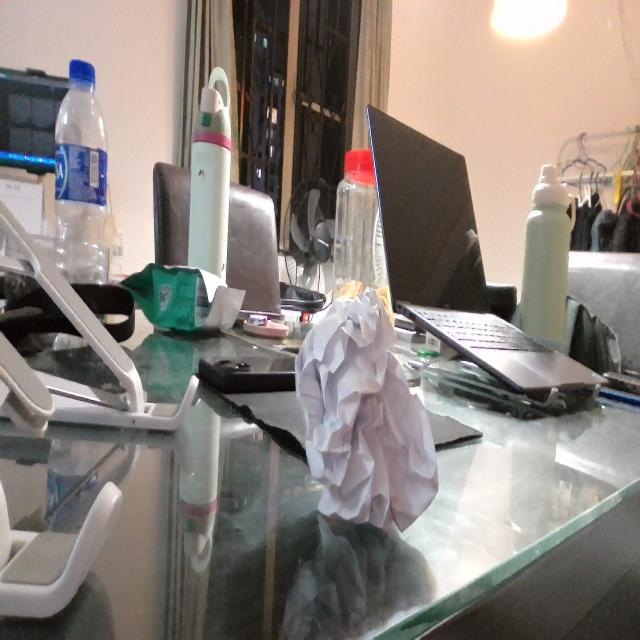crumpled_paper: (296, 287, 440, 540)
